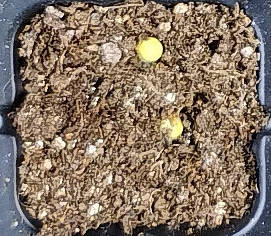pepper seed: (67, 45, 251, 183), (56, 5, 220, 68)
